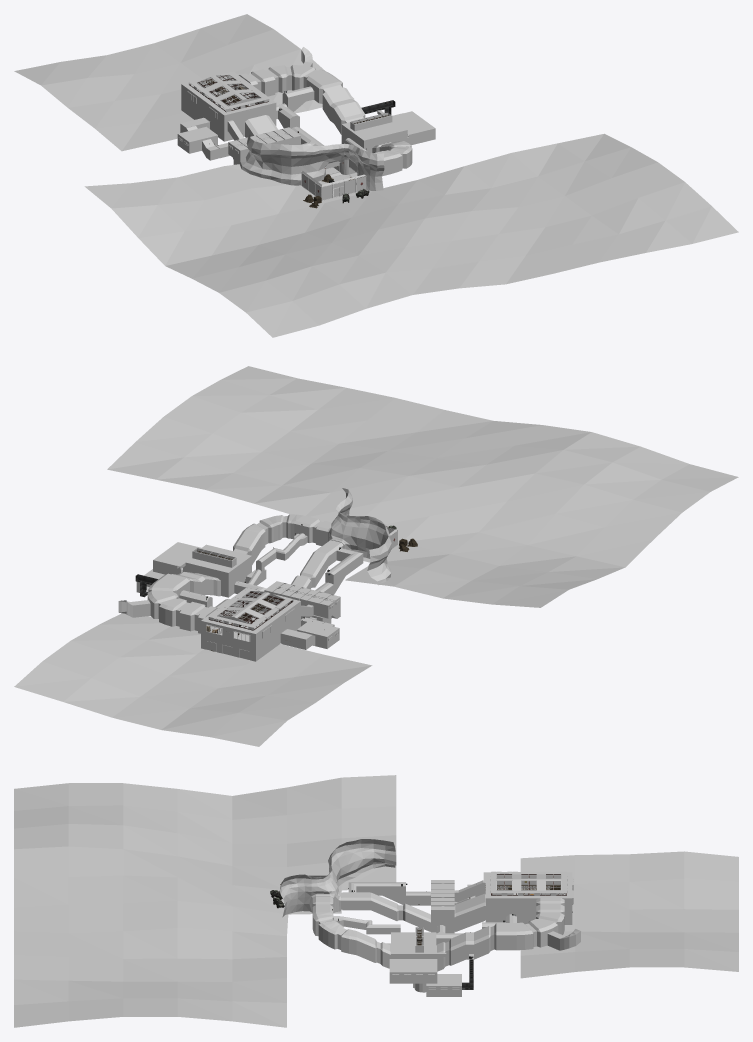
Rendered from BlackPanther_World.obj.
The picture shows the model from 3 angles, top to bottom: view 1: azimuth 30°, elevation 25°; view 2: azimuth 150°, elevation 25°; view 3: azimuth 270°, elevation 25°; orthographic projection. The views are drawn at different scales.
Visible parts, largest first — view 1: Blackpanter_Stage, Blackpanter_Stage Object, BlackPanther_Alpha,Red Light,alpha01; view 2: Blackpanter_Stage, Blackpanter_Stage Object; view 3: Blackpanter_Stage, Blackpanter_Stage Object.
Boxes of the visible parts, x1,y1,x2,y2 form: Blackpanter_Stage: (14, 14, 738, 337); Blackpanter_Stage Object: (179, 72, 408, 200); BlackPanther_Alpha,Red Light,alpha01: (178, 137, 365, 200); Blackpanter_Stage: (14, 366, 738, 746); Blackpanter_Stage Object: (179, 528, 397, 659); Blackpanter_Stage: (14, 775, 738, 1027); Blackpanter_Stage Object: (293, 871, 573, 991).
Bounding box in the file's own units: 200 × 26.8 × 266.
